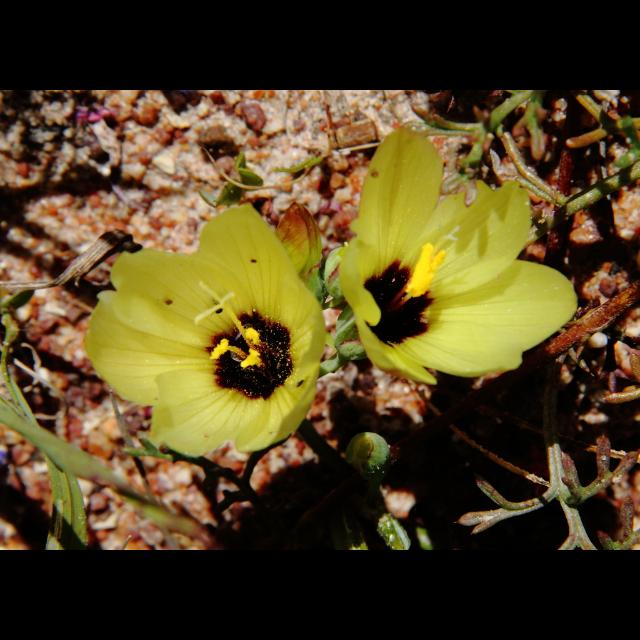Flower: (81, 210, 343, 480), (326, 124, 580, 386)
